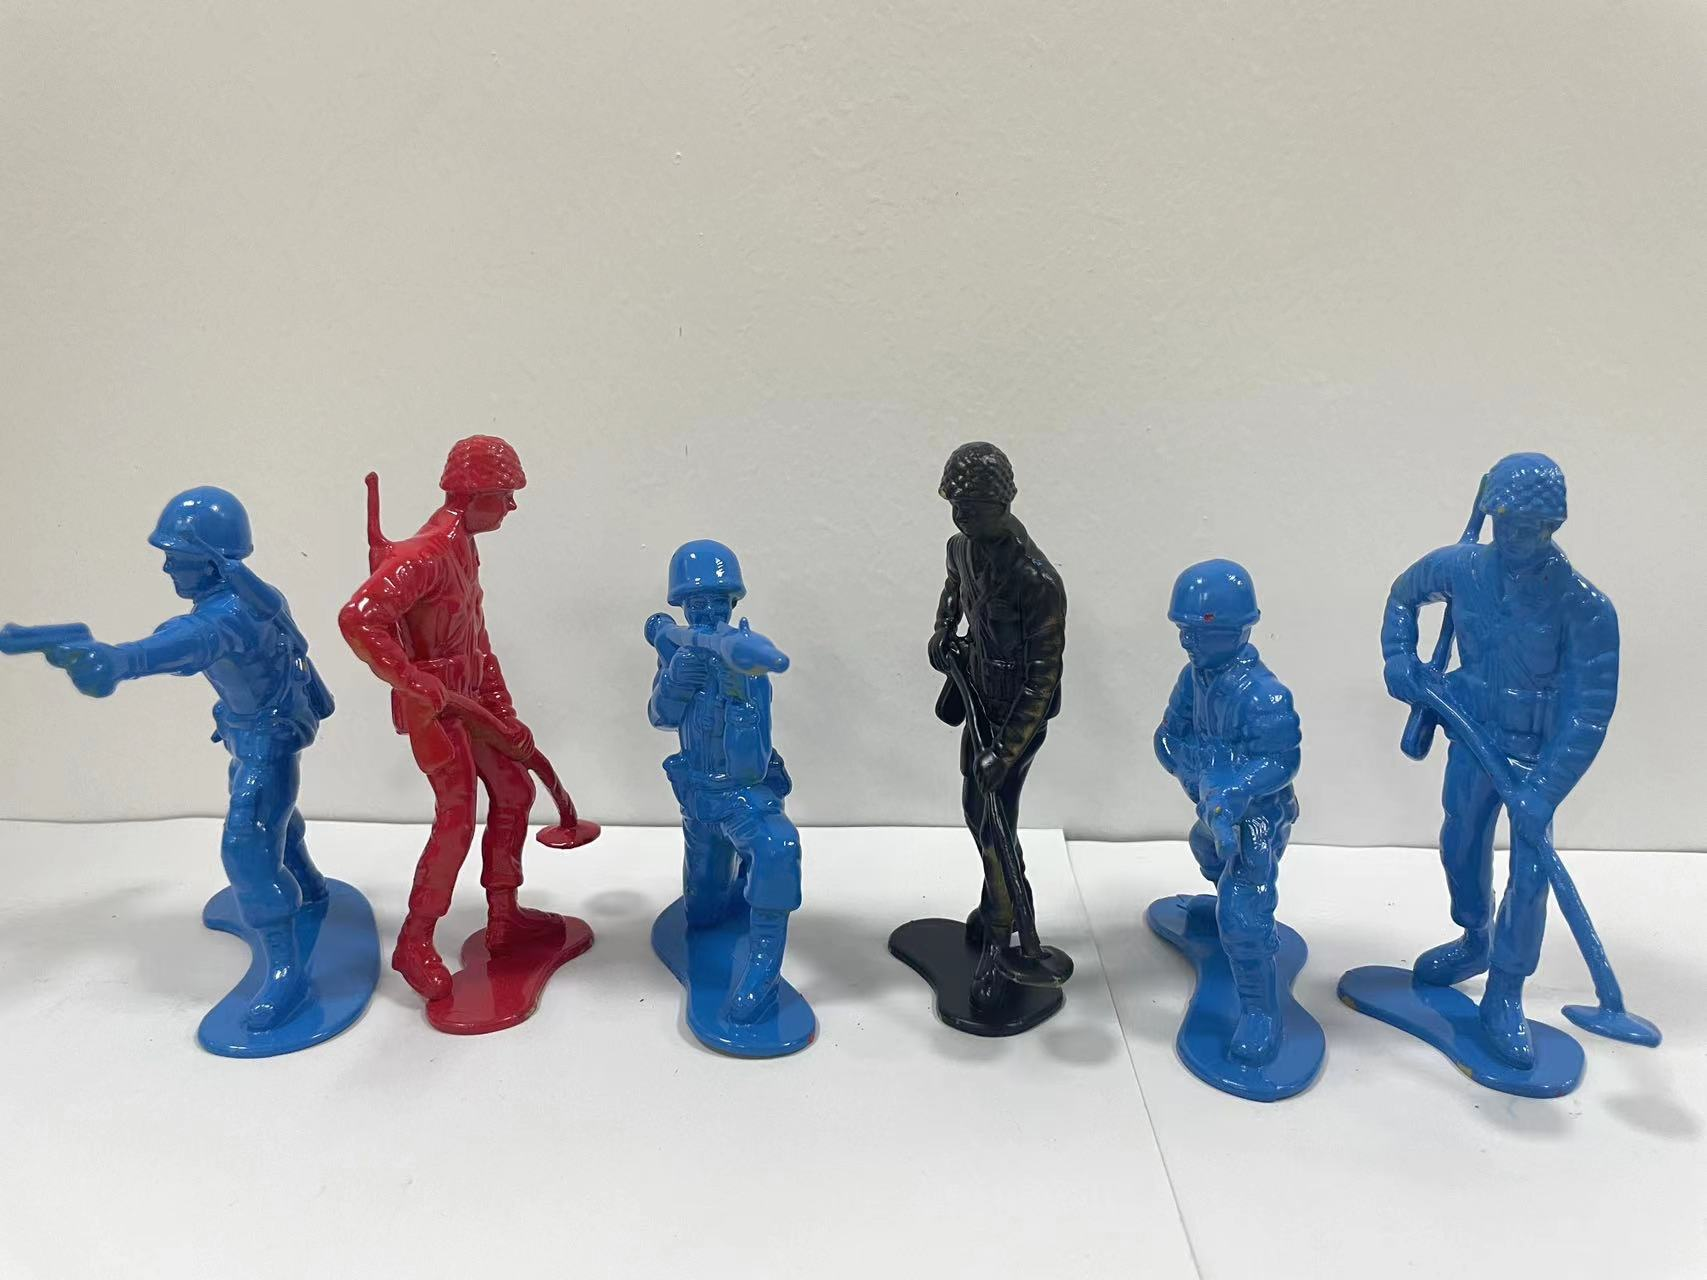black: (886, 391, 1110, 1119)
blue: (1368, 436, 1683, 1107), (9, 467, 349, 1086), (1109, 551, 1340, 1107), (630, 524, 841, 1092)
red: (352, 421, 610, 1101)
